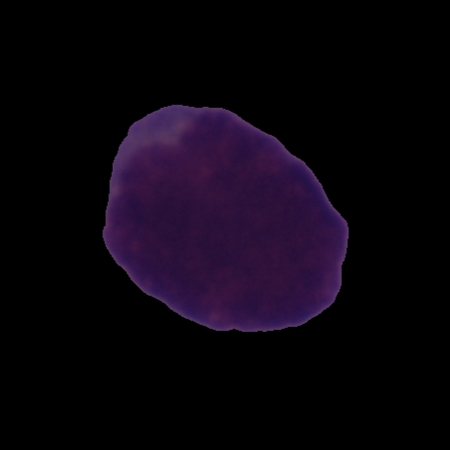ALL: (99, 100, 353, 337)
